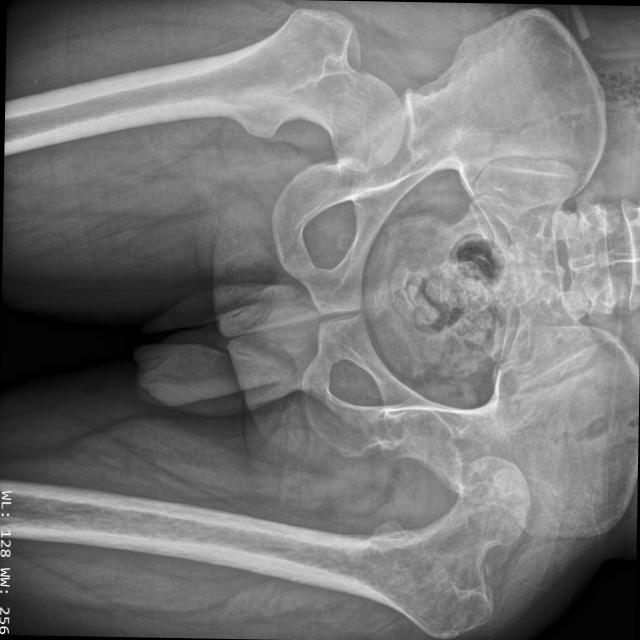left-dislocation: (285, 456, 530, 639)
normal-right: (158, 8, 404, 172)
